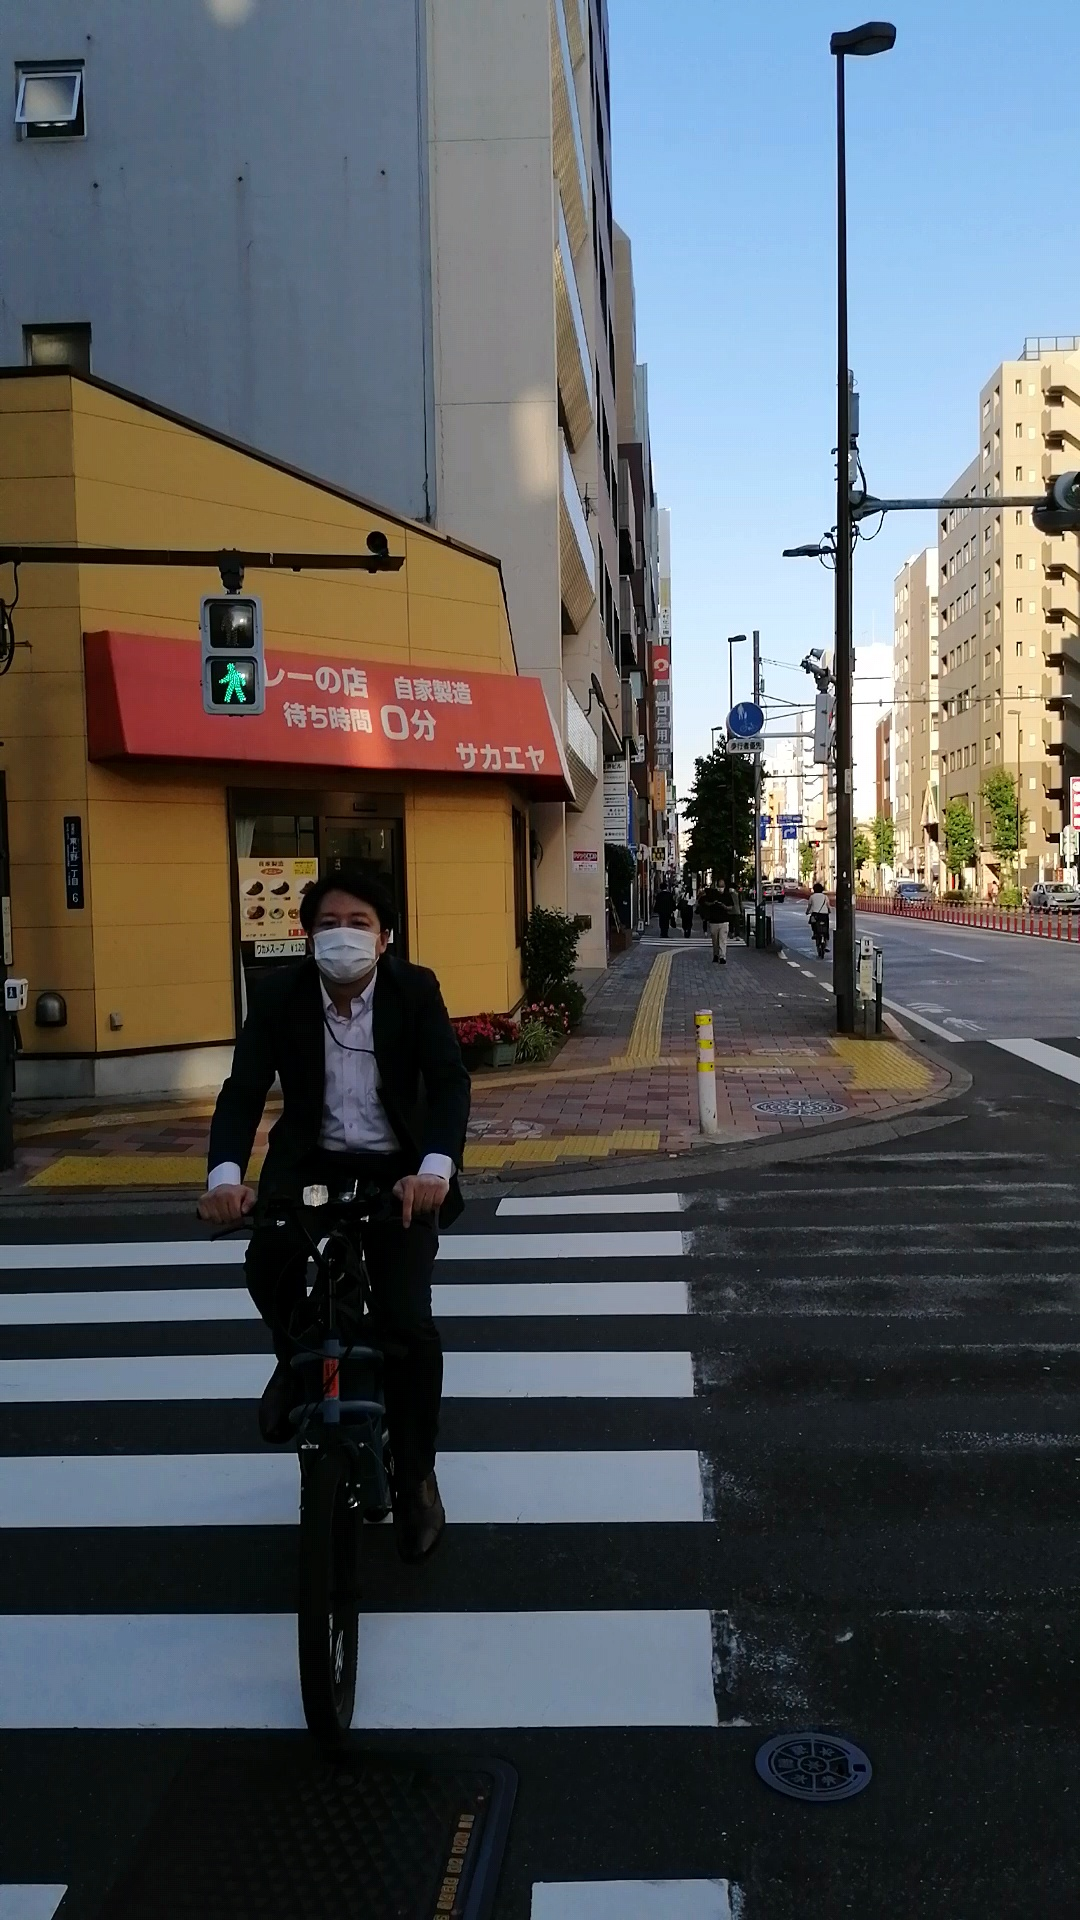green: (198, 593, 266, 717)
